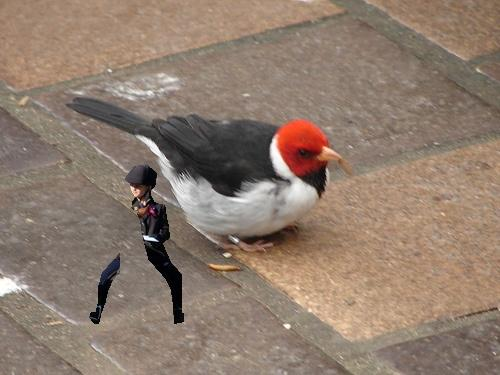tampered: (90, 166, 184, 324)
